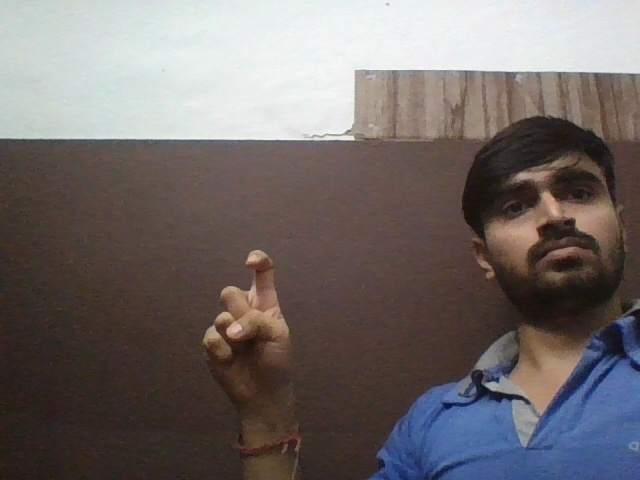X: (196, 247, 296, 419)
